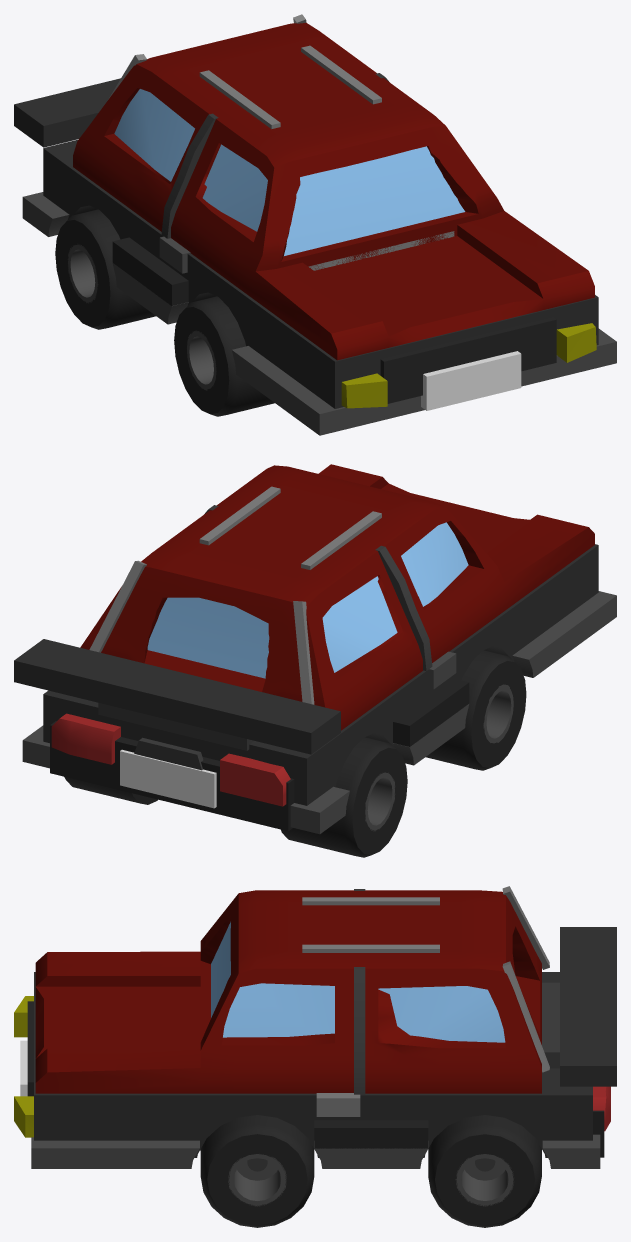
The model's file is car4.obj.
3 views of the same model, one above another, from view 1: azimuth 30°, elevation 25°; view 2: azimuth 150°, elevation 25°; view 3: azimuth 270°, elevation 25° (orthographic). The views are drawn at different scales.
Visible parts, largest first — view 1: group1 polySurface9, group1 pCube21, group1 polySurface1, group1 polySurface3, group1 pCube25, group1 pPipe5, group1 pPipe7, group1 pCube22, group1 pCube8, group1 pCube13, group1 pCube29, group1 pCube41 (+7 smaller); view 2: group1 polySurface9, group1 polySurface1, group1 pCube22, group1 pCube21, group1 polySurface3, group1 pPipe7, group1 pPipe5, group1 pCube38, group1 pCube33, group1 pCube42, group1 pCube13, group1 pCube39 (+11 smaller); view 3: group1 polySurface9, group1 polySurface1, group1 pCube21, group1 pCube22, group1 polySurface3, group1 pPipe1, pPipe3 group1, group1 pCube13, group1 pPipe2, group1 pPipe4, group1 pCube29, group1 pCube18 (+11 smaller).
Boxes of the visible parts, x1=… form: group1 polySurface9: x1=73, y1=22, x2=594, y2=360; group1 pCube21: x1=114, y1=89, x2=465, y2=255; group1 polySurface1: x1=43, y1=139, x2=598, y2=408; group1 polySurface3: x1=22, y1=192, x2=616, y2=435; group1 pCube25: x1=380, y1=317, x2=556, y2=403; group1 pPipe5: x1=174, y1=296, x2=274, y2=416; group1 pPipe7: x1=55, y1=209, x2=155, y2=329; group1 pCube22: x1=14, y1=78, x2=120, y2=147; group1 pCube8: x1=421, y1=351, x2=521, y2=410; group1 pCube13: x1=112, y1=237, x2=188, y2=305; group1 pCube29: x1=161, y1=73, x2=389, y2=238; group1 pCube41: x1=341, y1=373, x2=387, y2=408; group1 polySurface9: x1=80, y1=464, x2=594, y2=730; group1 polySurface1: x1=43, y1=544, x2=598, y2=805; group1 pCube22: x1=14, y1=639, x2=340, y2=754; group1 pCube21: x1=147, y1=522, x2=468, y2=678; group1 polySurface3: x1=22, y1=591, x2=616, y2=834; group1 pPipe7: x1=281, y1=737, x2=407, y2=857; group1 pPipe5: x1=425, y1=650, x2=526, y2=770; group1 pCube38: x1=50, y1=721, x2=294, y2=831; group1 pCube33: x1=120, y1=749, x2=216, y2=808; group1 pCube42: x1=220, y1=753, x2=290, y2=806; group1 pCube13: x1=393, y1=678, x2=469, y2=746; group1 pCube39: x1=51, y1=713, x2=120, y2=764; group1 polySurface9: x1=35, y1=890, x2=541, y2=1093; group1 polySurface1: x1=34, y1=972, x2=592, y2=1157; group1 pCube21: x1=211, y1=921, x2=505, y2=1042; group1 pCube22: x1=560, y1=927, x2=616, y2=1086; group1 polySurface3: x1=31, y1=1134, x2=600, y2=1168; group1 pPipe1: x1=200, y1=1115, x2=314, y2=1227; pPipe3 group1: x1=428, y1=1115, x2=541, y2=1227; group1 pCube13: x1=314, y1=1120, x2=428, y2=1148; group1 pPipe2: x1=228, y1=1154, x2=286, y2=1206; group1 pPipe4: x1=455, y1=1154, x2=513, y2=1206; group1 pCube29: x1=354, y1=889, x2=365, y2=1094; group1 pCube18: x1=542, y1=982, x2=559, y2=1068.
Size of the model in its own units: 2.89 by 2.32 by 5.3.
